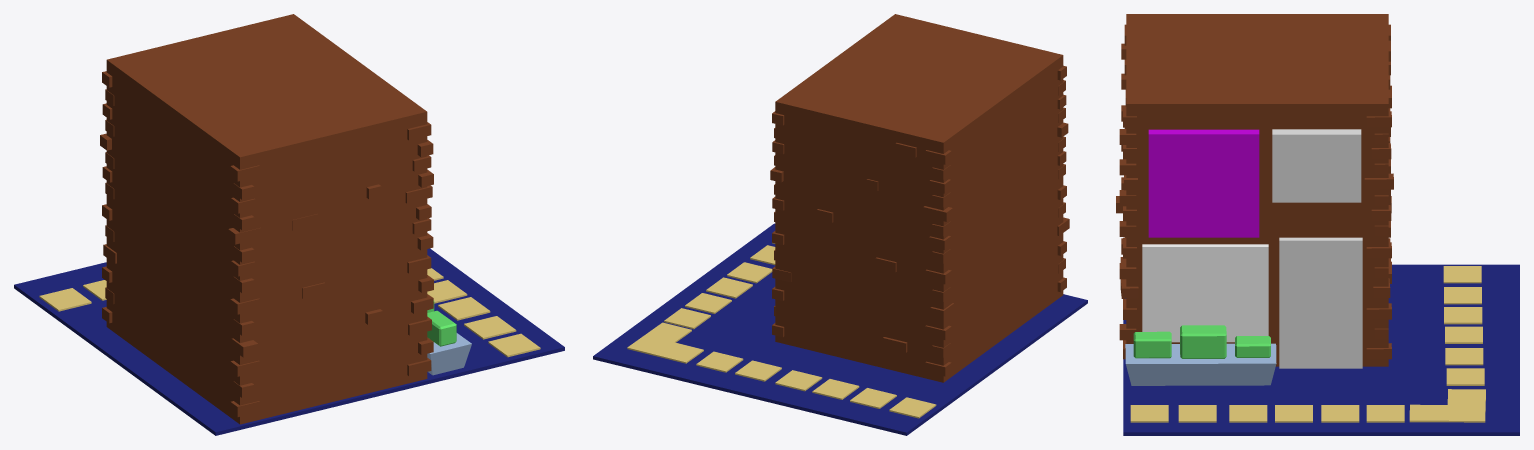
Rendered from Window.glb.
3 renders of one model, left to right at view 1: azimuth 30°, elevation 25°; view 2: azimuth 150°, elevation 25°; view 3: azimuth 270°, elevation 25°, orthographic. The views are drawn at different scales.
Visible parts, largest first — view 1: Cube.001, Cube, Cube.071, Cube.010, Cube.073, Cube.074, Cube.007, Cube.077, Cube.076; view 2: Cube.001, Cube, Cube.081, Cube.076, Cube.082, Cube.078, Cube.083, Cube.007, Cube.008, Cube.075, Cube.079, Cube.080 (+1 smaller); view 3: Cube.001, Cube, Cube.002, Cube.005, Cube.004, Cube.003, Cube.071, Cube.081, Cube.011, Cube.010, Cube.012, Cube.073 (+11 smaller).
Boxes of the visible parts, <box> form: Cube.001: <box>100,14,433,424</box>; Cube: <box>14,248,564,435</box>; Cube.071: <box>427,333,471,375</box>; Cube.010: <box>427,310,456,346</box>; Cube.073: <box>488,333,540,357</box>; Cube.074: <box>464,316,516,339</box>; Cube.007: <box>39,288,91,311</box>; Cube.077: <box>438,297,490,320</box>; Cube.076: <box>427,280,467,303</box>; Cube.001: <box>770,14,1069,382</box>; Cube: <box>593,223,1087,435</box>; Cube.081: <box>627,322,703,363</box>; Cube.076: <box>706,277,752,298</box>; Cube.082: <box>775,370,822,391</box>; Cube.078: <box>664,308,710,329</box>; Cube.083: <box>812,379,859,399</box>; Cube.007: <box>889,397,936,418</box>; Cube.008: <box>850,388,896,408</box>; Cube.075: <box>685,293,731,313</box>; Cube.079: <box>735,360,781,381</box>; Cube.080: <box>696,351,743,372</box>; Cube.001: <box>1116,14,1393,366</box>; Cube: <box>1123,264,1519,435</box>; Cube.002: <box>1148,129,1259,237</box>; Cube.005: <box>1142,244,1268,342</box>; Cube.004: <box>1279,237,1362,368</box>; Cube.003: <box>1272,129,1361,202</box>; Cube.071: <box>1125,343,1276,385</box>; Cube.081: <box>1409,389,1485,422</box>; Cube.011: <box>1180,325,1226,358</box>; Cube.010: <box>1133,331,1171,358</box>; Cube.012: <box>1235,336,1270,357</box>; Cube.073: <box>1130,405,1168,422</box>.
Size of the model in its own units: 20 by 14.84 by 20.36.
